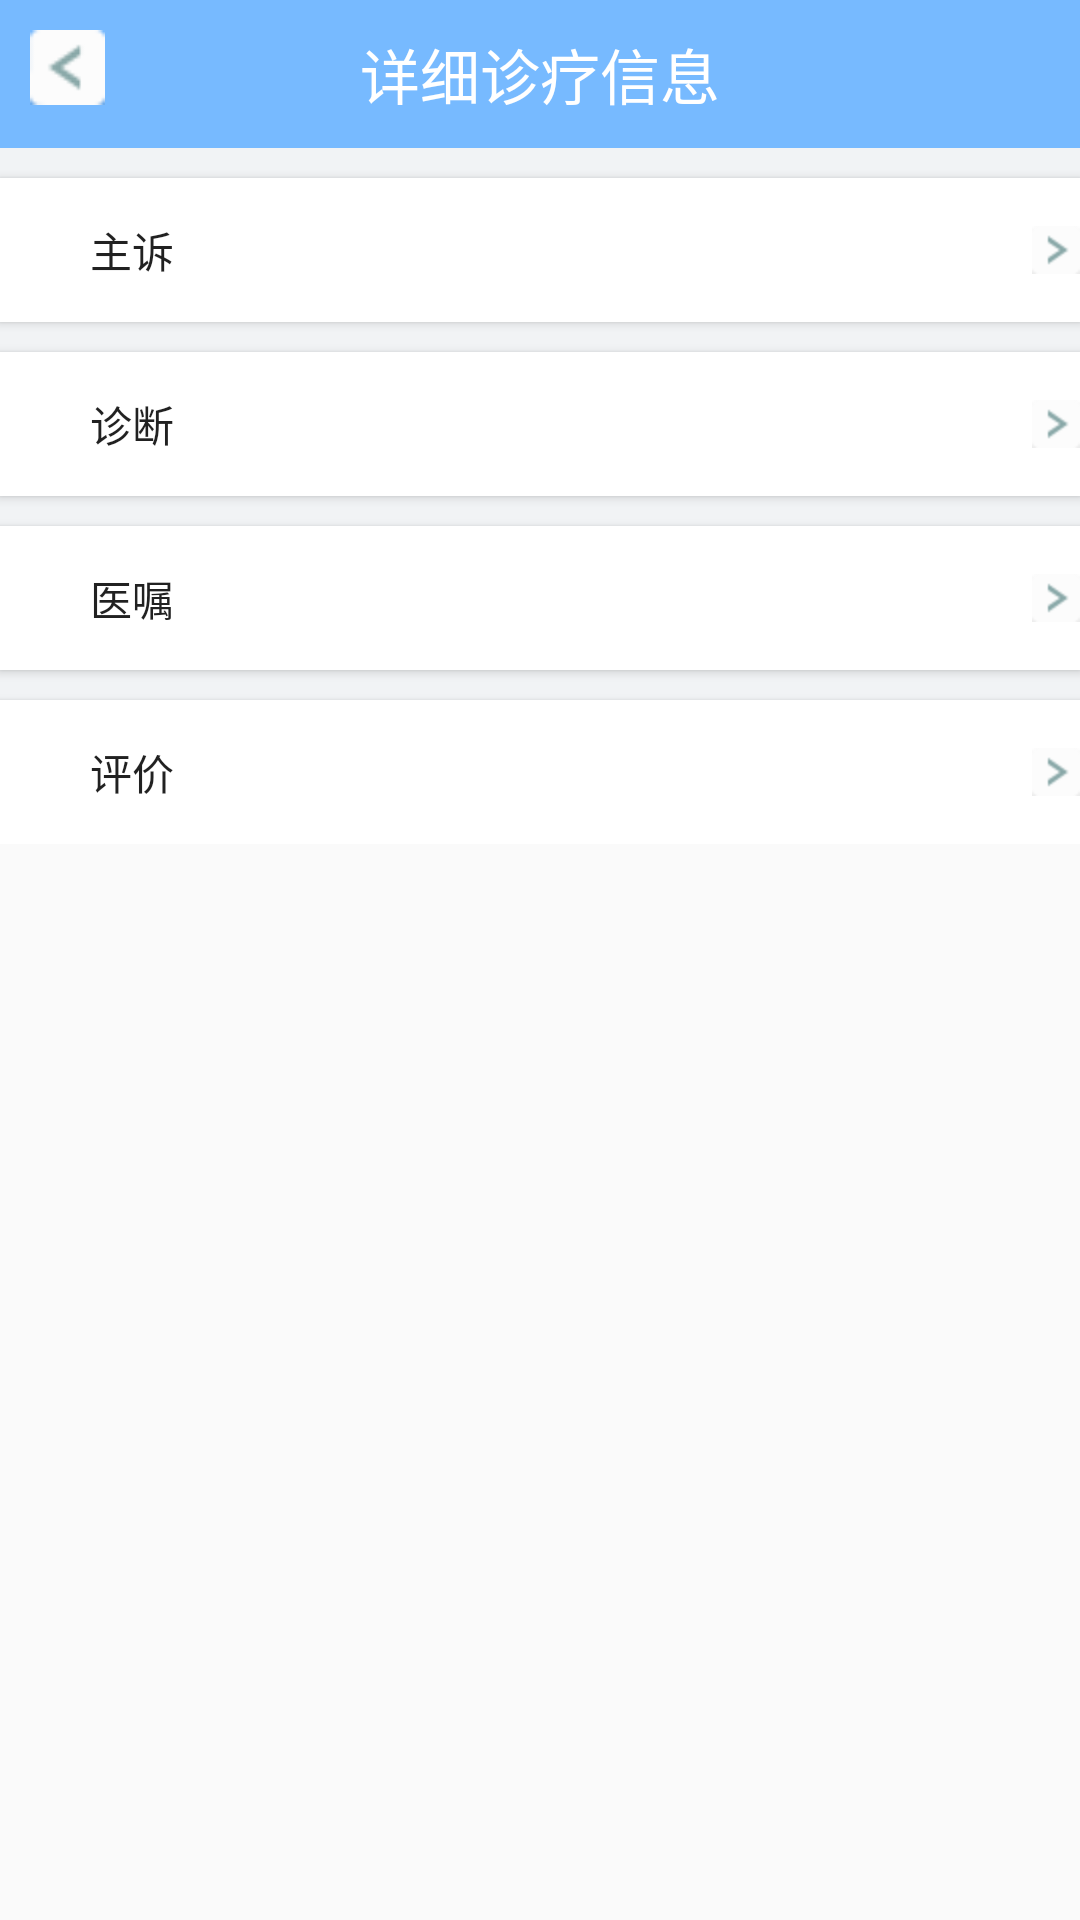

Icons on this 1080x1920 Android screen, each with the point to tap as point (x, y):
left: point (67, 67)
